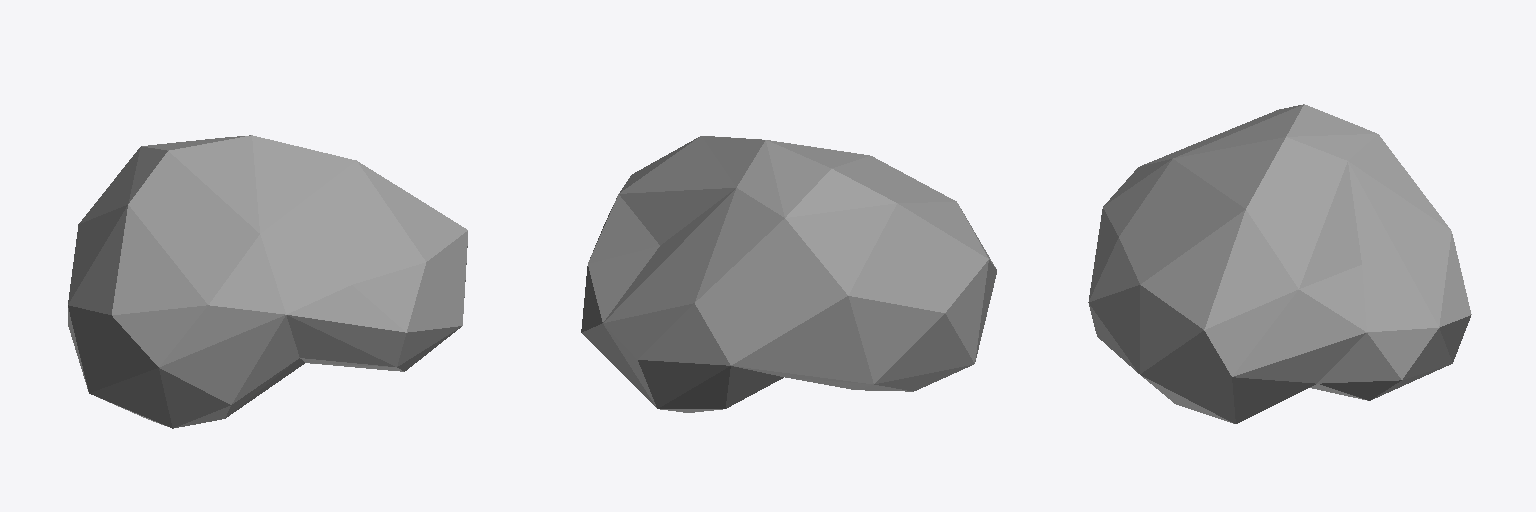
The picture shows the model from 3 angles: view 1: azimuth 30°, elevation 25°; view 2: azimuth 150°, elevation 25°; view 3: azimuth 270°, elevation 25°; orthographic projection.
Parts seen in each view (by area): view 1: rock.004; view 2: rock.004; view 3: rock.004.
Part boxes in pixels (bbox=[...]): rock.004: bbox=[68, 135, 467, 428]; rock.004: bbox=[581, 136, 996, 412]; rock.004: bbox=[1088, 104, 1471, 423].
Size of the model in its own units: 1.38 by 0.835 by 1.22.